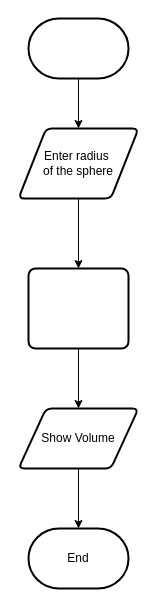
The diagram is 156 pixels wide and 606 high, and some of its shapes have lost their labels. The shapes that lost their labels are listed below. From the top down, each one's centre as x and y in pixels, then its label:
At (x=78, y=48): "Start".
At (x=78, y=308): "V=4/3pir 3".
